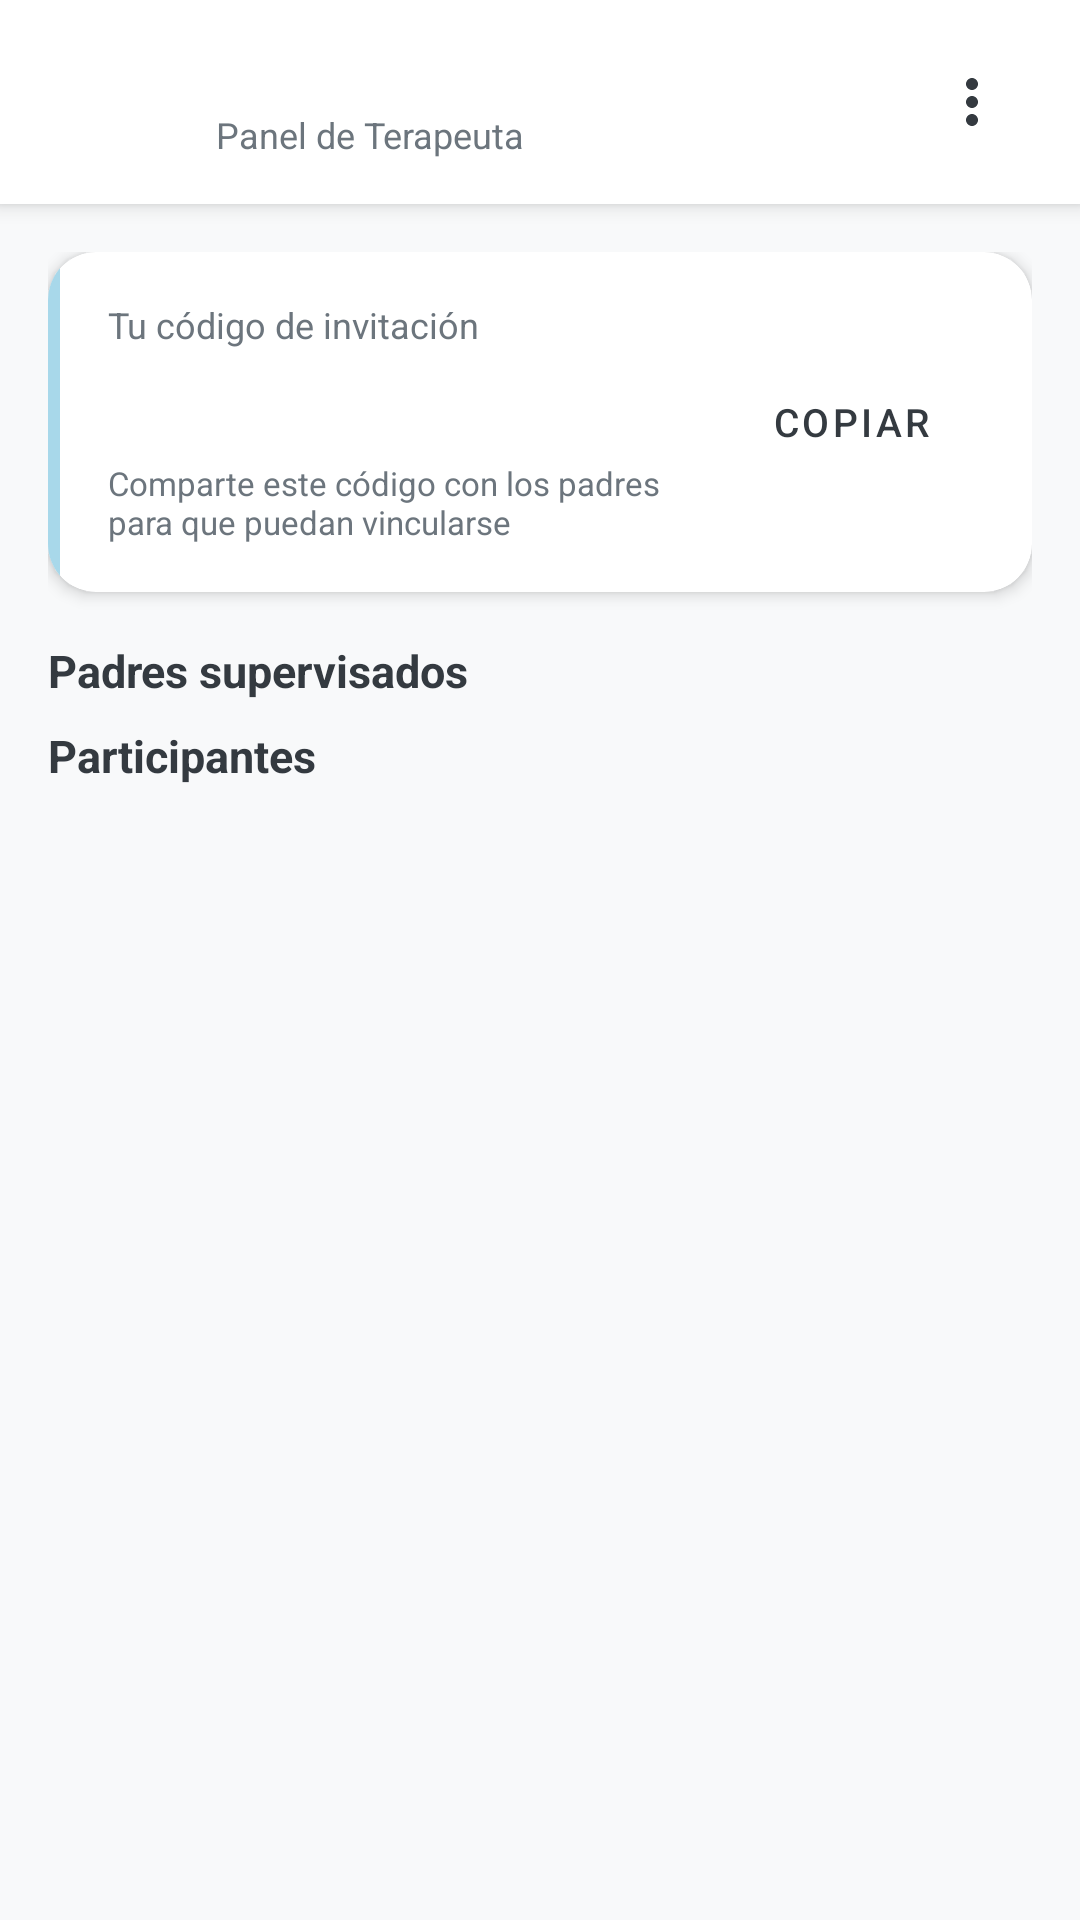

Icons on this 1080w x 1920h Android screen, each with the point to tap as (x=x, y=y):
Opciones: (x=972, y=102)
